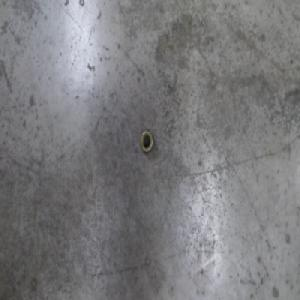Nut: (140, 126, 154, 155)
